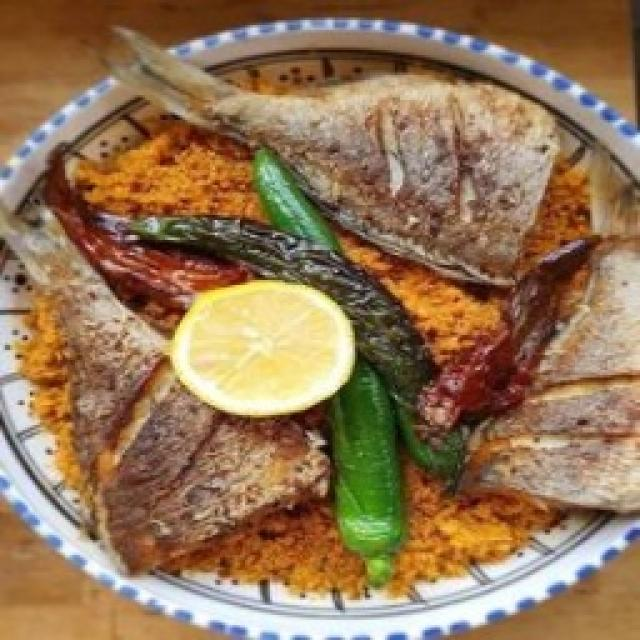Couscous: (0, 28, 640, 601)
